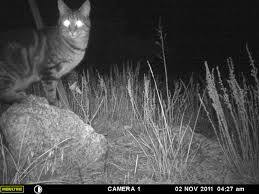bobcat: (7, 6, 97, 107)
